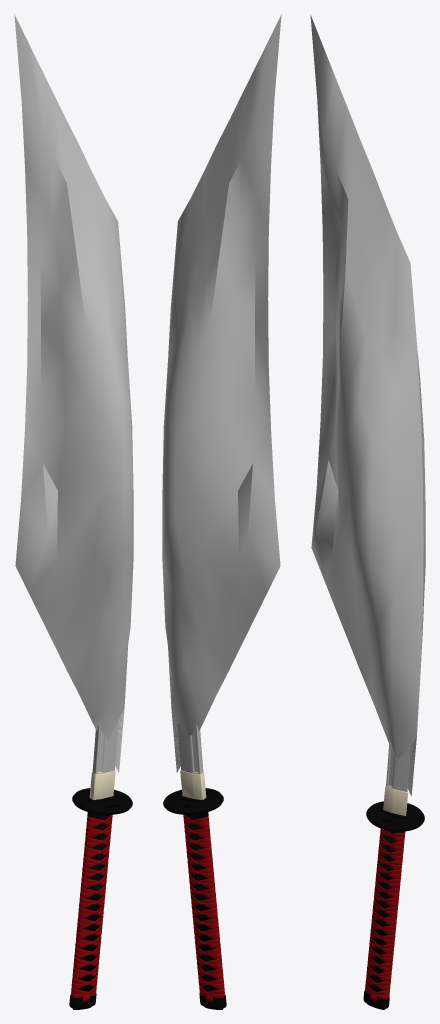
File: Katana_opti_flame.fbx
3 views of the same model, side by side, from view 1: azimuth 30°, elevation 25°; view 2: azimuth 150°, elevation 25°; view 3: azimuth 330°, elevation 25° (orthographic). The views are drawn at different scales.
Parts seen in each view (by area): view 1: Plane.001, Katana; view 2: Plane.001, Katana; view 3: Plane.001, Katana.
Part boxes in pixels (bbox=[...]): Plane.001: bbox=[14, 14, 133, 772]; Katana: bbox=[69, 721, 132, 1009]; Plane.001: bbox=[162, 14, 281, 772]; Katana: bbox=[163, 721, 226, 1009]; Plane.001: bbox=[310, 14, 425, 796]; Katana: bbox=[363, 739, 424, 1009].
Size of the model in its own units: 211 by 183 by 1739.
